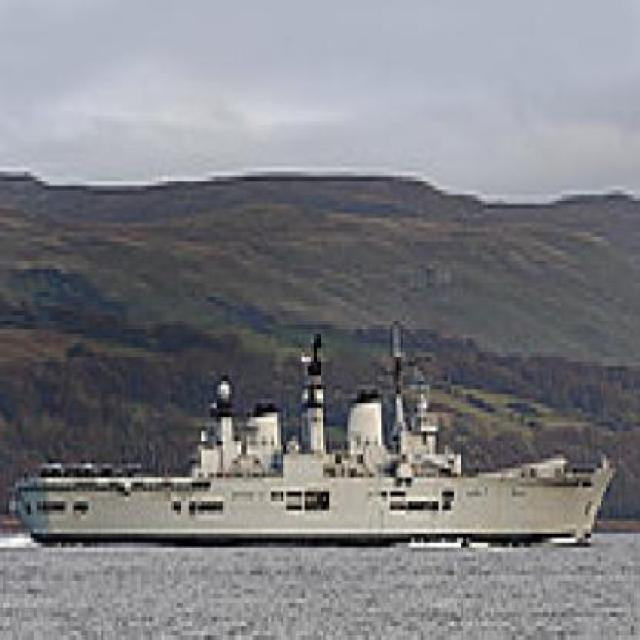warship2: (10, 307, 629, 572)
